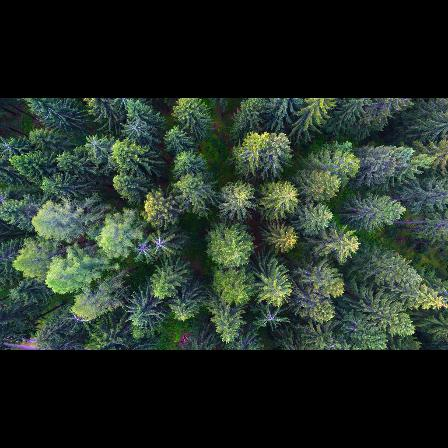Sick: (250, 305, 291, 332), (117, 113, 144, 139), (151, 233, 175, 256), (131, 240, 155, 261)
